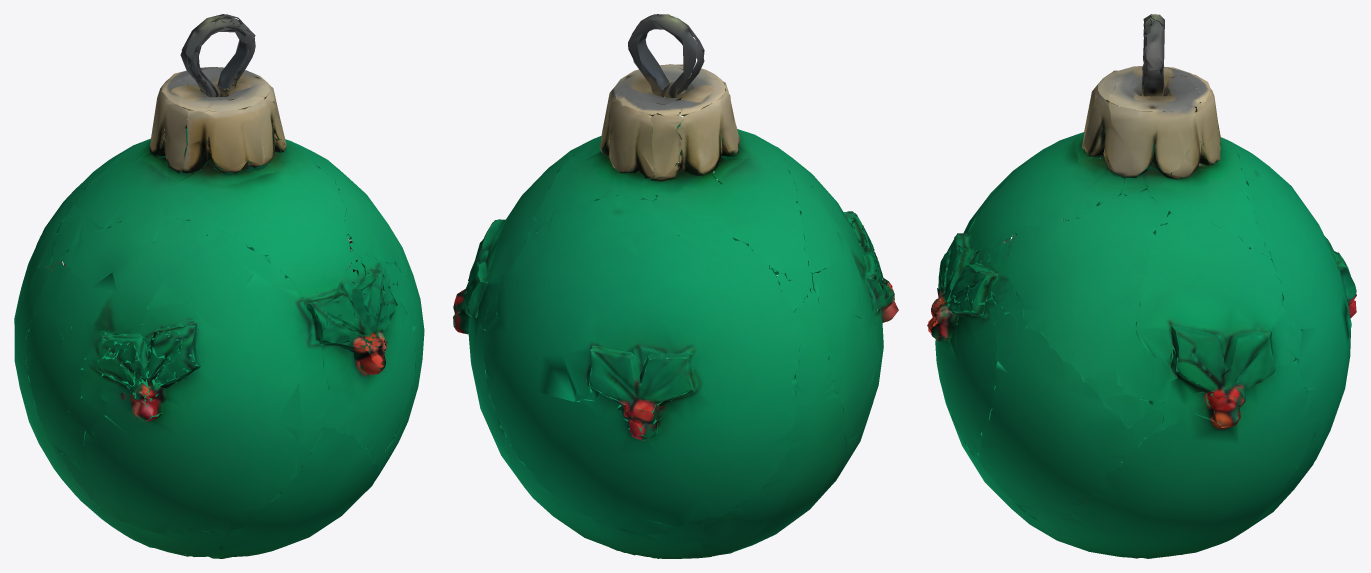
Rendered from Ornament_C.fbx.
3 views of the same model, side by side, from view 1: azimuth 30°, elevation 25°; view 2: azimuth 150°, elevation 25°; view 3: azimuth 270°, elevation 25° (orthographic).
Parts seen in each view (by area): view 1: Ornament_C; view 2: Ornament_C; view 3: Ornament_C.
Part boxes in pixels (<box>): Ornament_C: <box>14,14,424,558</box>; Ornament_C: <box>453,14,898,558</box>; Ornament_C: <box>927,14,1356,558</box>.
Bounding box in the file's own units: 11.97 × 16 × 12.36.
Materials: 1 (1 with a texture image).
